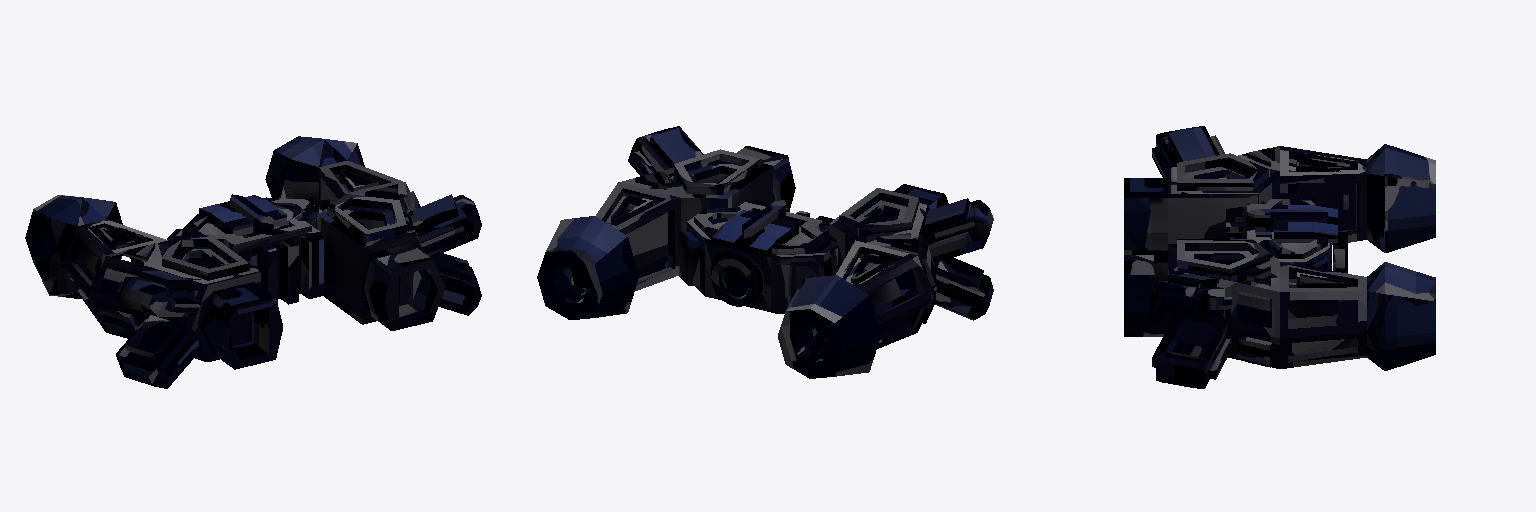
3 renders of one model, left to right at view 1: azimuth 30°, elevation 25°; view 2: azimuth 150°, elevation 25°; view 3: azimuth 270°, elevation 25°, orthographic.
Parts seen in each view (by area): view 1: Spaceship.007_Spaceship-mesh.007; view 2: Spaceship.007_Spaceship-mesh.007; view 3: Spaceship.007_Spaceship-mesh.007.
Boxes of the visible parts, box(x1,y1,x2,y2) form: Spaceship.007_Spaceship-mesh.007: box(25, 136, 481, 388); Spaceship.007_Spaceship-mesh.007: box(537, 126, 993, 378); Spaceship.007_Spaceship-mesh.007: box(1124, 126, 1435, 388).
Size of the model in its own units: 9.66 by 2.71 by 7.31.
4 materials, 1 textured.